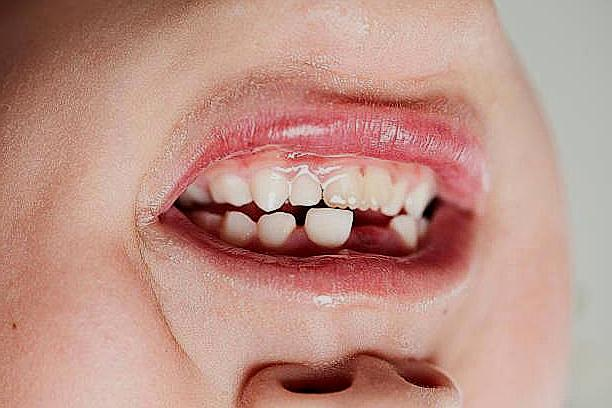Hypodontia: (337, 207, 401, 242)
